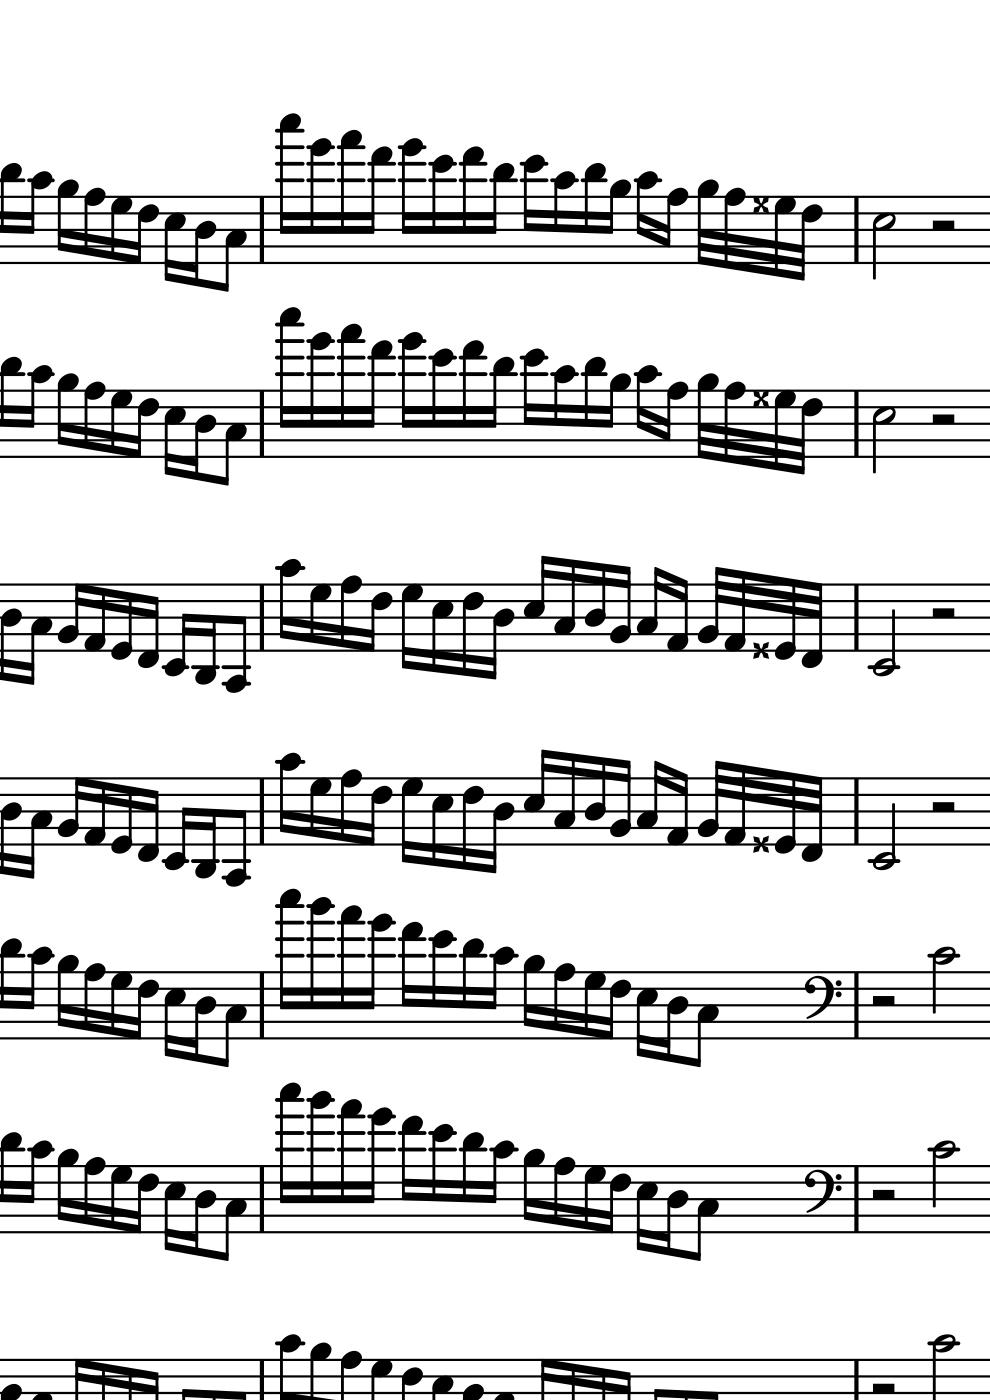16_-1: (135, 776, 159, 864), (135, 583, 159, 669)
16_-2: (163, 583, 190, 680), (163, 776, 190, 873)
16_-3: (192, 583, 217, 686), (192, 777, 217, 879)
16_-4: (221, 776, 251, 889)
16_0: (108, 582, 133, 662), (108, 776, 133, 856)
16_1: (664, 767, 688, 848), (82, 776, 107, 849), (665, 573, 688, 653), (82, 582, 107, 654)
16_10: (274, 558, 305, 654), (486, 945, 517, 1041), (486, 1139, 517, 1235), (274, 752, 305, 847), (632, 169, 662, 267), (22, 945, 52, 1041), (24, 1139, 54, 1235), (24, 171, 54, 266), (24, 365, 54, 460), (633, 363, 662, 461), (550, 170, 577, 266), (550, 364, 577, 460)
16_11: (363, 145, 394, 265), (486, 356, 516, 460), (486, 163, 516, 265), (457, 936, 485, 1041), (457, 1130, 485, 1235), (580, 161, 606, 266), (580, 355, 605, 461), (1, 936, 22, 1042), (1, 355, 22, 460), (1, 1130, 22, 1235), (1, 161, 22, 265)
16_12: (427, 1124, 456, 1235), (427, 349, 456, 460), (427, 929, 455, 1042), (520, 347, 547, 460), (520, 153, 547, 265)
16_13: (363, 338, 393, 460), (457, 145, 485, 266), (457, 338, 485, 460), (397, 1116, 425, 1236), (397, 922, 425, 1041)
16_14: (362, 1105, 395, 1236), (363, 910, 395, 1042), (397, 331, 426, 458), (305, 333, 334, 460), (397, 139, 426, 264), (306, 138, 333, 266)
16_15: (335, 904, 363, 1041), (335, 1098, 363, 1235), (336, 129, 363, 265), (336, 322, 363, 458)
16_16: (304, 895, 335, 1041), (304, 1090, 335, 1235)
16_17: (274, 307, 303, 457), (275, 889, 304, 1039), (275, 1083, 304, 1233)
16_2: (607, 756, 631, 847), (55, 581, 84, 653), (607, 563, 631, 652), (55, 776, 84, 847)
16_3: (22, 776, 52, 880), (24, 583, 52, 686), (634, 564, 664, 653), (634, 758, 664, 847), (551, 751, 576, 847), (552, 558, 577, 653)
16_4: (486, 776, 516, 875), (487, 582, 516, 681), (187, 388, 215, 480), (187, 970, 215, 1063), (187, 1164, 215, 1256), (189, 194, 215, 287), (660, 970, 687, 1063), (660, 1164, 687, 1256), (582, 754, 607, 847), (582, 561, 607, 652), (1, 776, 22, 879), (1, 582, 22, 684)
16_5: (522, 746, 552, 847), (523, 553, 552, 653), (429, 776, 454, 869), (429, 582, 454, 674), (162, 194, 186, 283), (162, 388, 186, 477), (162, 970, 186, 1058), (634, 970, 658, 1058), (162, 1164, 185, 1252), (634, 1164, 658, 1252)
16_6: (794, 195, 823, 283), (460, 582, 483, 677), (460, 776, 483, 871), (364, 582, 393, 654), (364, 776, 393, 847), (603, 970, 631, 1043), (131, 195, 159, 267), (131, 970, 157, 1043), (131, 389, 157, 460), (131, 1165, 157, 1236), (603, 1164, 630, 1235)
16_7: (399, 581, 424, 672), (399, 776, 424, 865), (771, 194, 795, 279), (580, 1163, 606, 1235), (580, 970, 606, 1041), (107, 194, 133, 267), (107, 1163, 132, 1236), (107, 389, 132, 461), (107, 969, 132, 1041), (307, 582, 331, 654), (307, 776, 331, 848)
16_8: (662, 381, 688, 462), (662, 187, 688, 267), (550, 962, 575, 1041), (550, 1156, 575, 1235), (337, 768, 362, 848), (80, 962, 105, 1042), (337, 575, 362, 654), (81, 1155, 105, 1236), (722, 187, 745, 271), (81, 187, 105, 266), (81, 381, 105, 460)
16_9: (604, 373, 631, 460), (604, 180, 631, 265), (55, 178, 79, 266), (54, 372, 78, 460), (521, 954, 545, 1042), (521, 1148, 545, 1236), (55, 954, 78, 1042), (55, 1148, 78, 1236), (696, 180, 719, 267)
2_-2: (867, 581, 898, 679), (868, 776, 898, 871)
2_10: (929, 1138, 960, 1236), (929, 945, 959, 1043)
2_5: (869, 194, 896, 281), (869, 389, 896, 473)
32_-1: (798, 772, 824, 865), (798, 578, 824, 671)
32_0: (772, 767, 798, 855), (772, 576, 797, 661)
32_1: (721, 567, 747, 654), (722, 761, 747, 848)
32_2: (694, 566, 725, 653), (694, 761, 725, 848)
32_6: (793, 388, 823, 476)
32_7: (771, 388, 795, 473)
32_8: (721, 382, 745, 465)
32_9: (696, 374, 719, 461)
8_-4: (221, 583, 250, 698)
8_3: (217, 388, 247, 488), (690, 969, 720, 1069), (217, 970, 247, 1069), (217, 1164, 247, 1263), (690, 1163, 720, 1262), (219, 194, 247, 293)
DSharp: (751, 829, 770, 859), (750, 194, 772, 217), (751, 639, 772, 662), (751, 386, 768, 410)
Fclef: (801, 1164, 842, 1234), (802, 970, 841, 1041)
Rests2: (868, 1186, 900, 1206), (927, 799, 959, 818), (867, 992, 899, 1011), (868, 1379, 900, 1398), (927, 604, 958, 623), (927, 411, 958, 430), (928, 217, 957, 235)
Single_barline: (846, 390, 866, 458), (846, 1166, 866, 1233), (847, 970, 866, 1039), (253, 391, 271, 458), (847, 197, 866, 264), (847, 584, 865, 652), (253, 585, 270, 652), (253, 778, 270, 845), (253, 972, 270, 1039), (253, 197, 270, 264), (253, 1166, 270, 1232), (847, 778, 864, 845)
